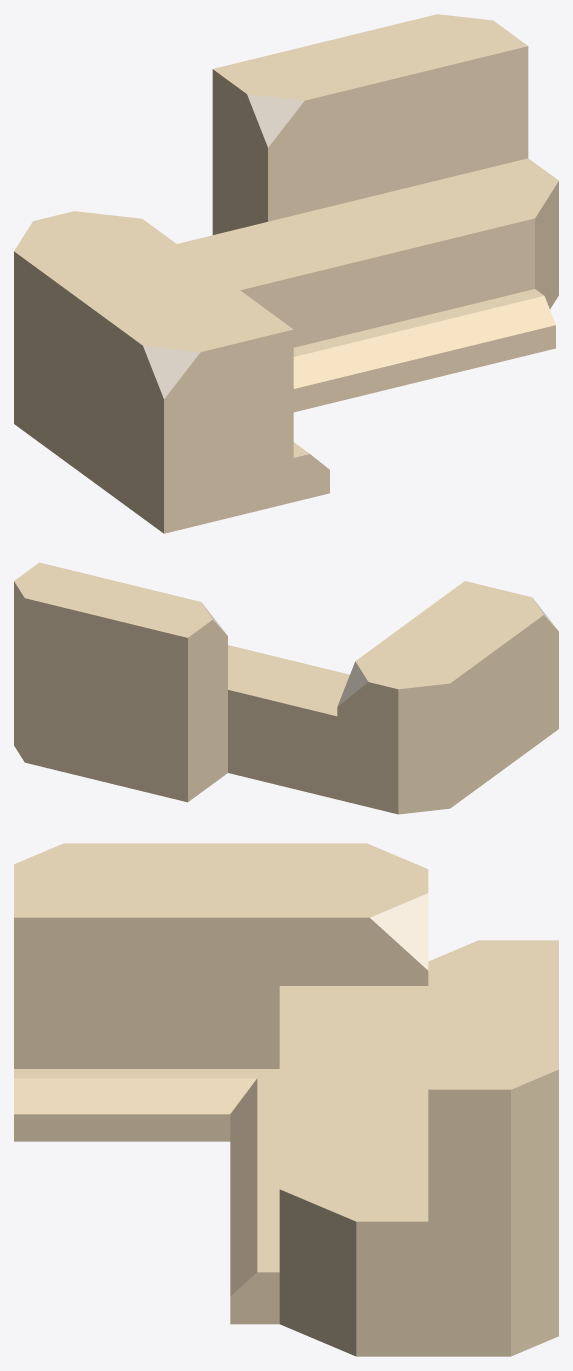
File: ruin_13.fbx
3 renders of one model, top to bottom at view 1: azimuth 30°, elevation 25°; view 2: azimuth 150°, elevation 25°; view 3: azimuth 270°, elevation 25°, orthographic. The views are drawn at different scales.
Visible parts, largest first — view 1: ruin_13; view 2: ruin_13; view 3: ruin_13.
Boxes of the visible parts, left/top/right/bottom form: ruin_13: left=14, top=14, right=558, bottom=533; ruin_13: left=14, top=562, right=558, bottom=814; ruin_13: left=14, top=843, right=558, bottom=1356.
Bounding box in the file's own units: 179 × 71.85 × 133.
